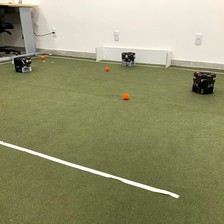ball: (121, 91, 130, 102), (103, 65, 111, 73), (38, 52, 46, 60)
goal: (92, 43, 173, 69)
robot: (189, 66, 219, 96), (12, 54, 34, 73), (119, 49, 137, 68)
